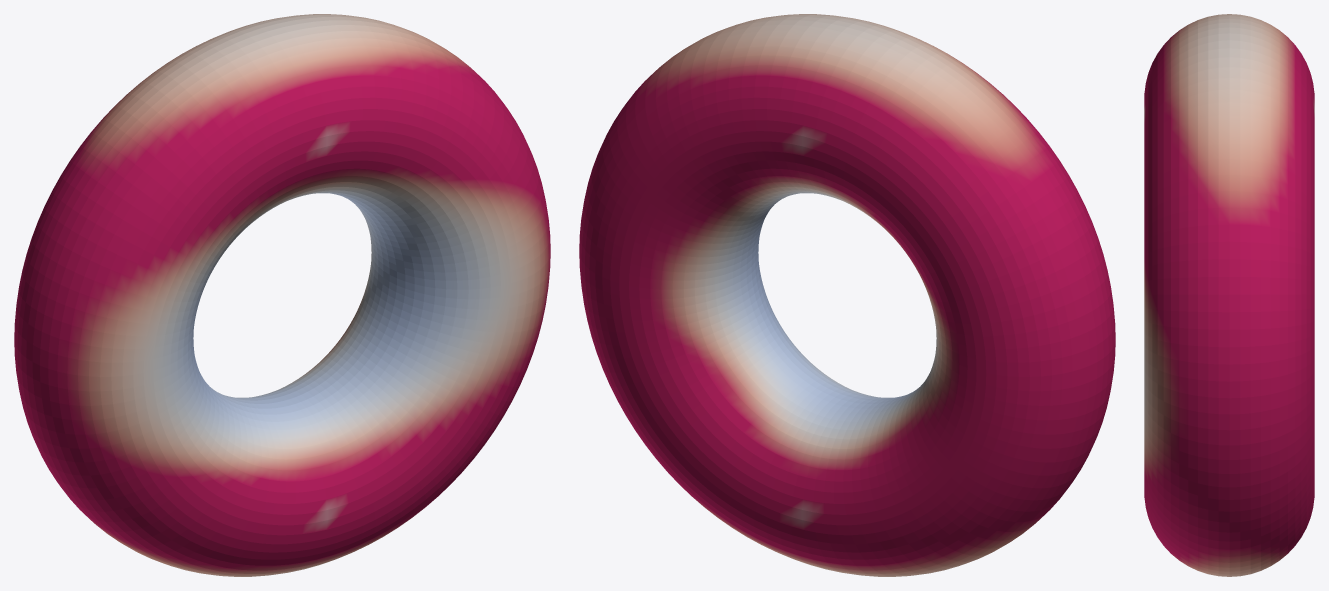
3 views of the same model, side by side, from view 1: azimuth 30°, elevation 25°; view 2: azimuth 150°, elevation 25°; view 3: azimuth 270°, elevation 25° (orthographic). The views are drawn at different scales.
Visible parts, largest first — view 1: world; view 2: world; view 3: world.
Boxes of the visible parts, x1=… form: world: x1=14, y1=14, x2=550, y2=576; world: x1=579, y1=14, x2=1115, y2=576; world: x1=1144, y1=14, x2=1314, y2=576.
Size of the model in its own units: 27.73 by 27.73 by 8.38.
